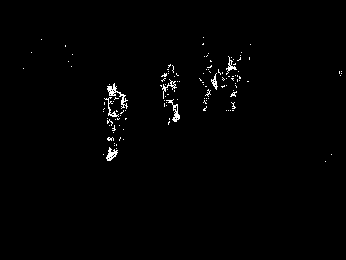person: (101, 83, 128, 162), (160, 63, 184, 124), (199, 62, 218, 112)
